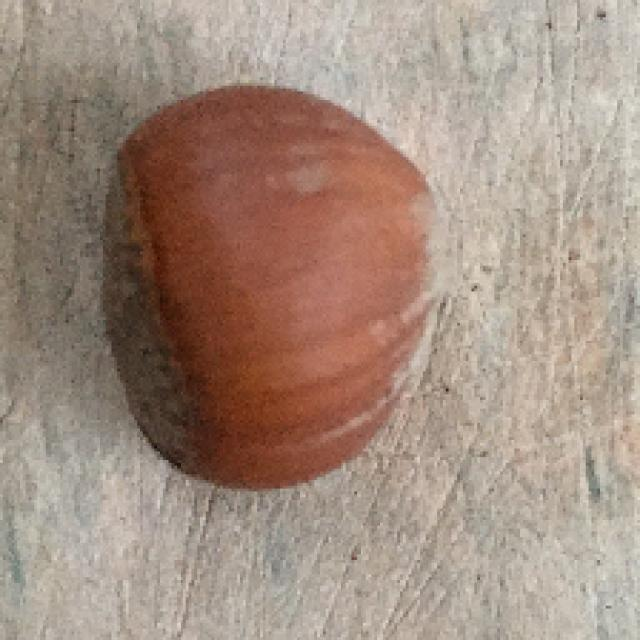DamagedHazelnut: (96, 89, 450, 486)
